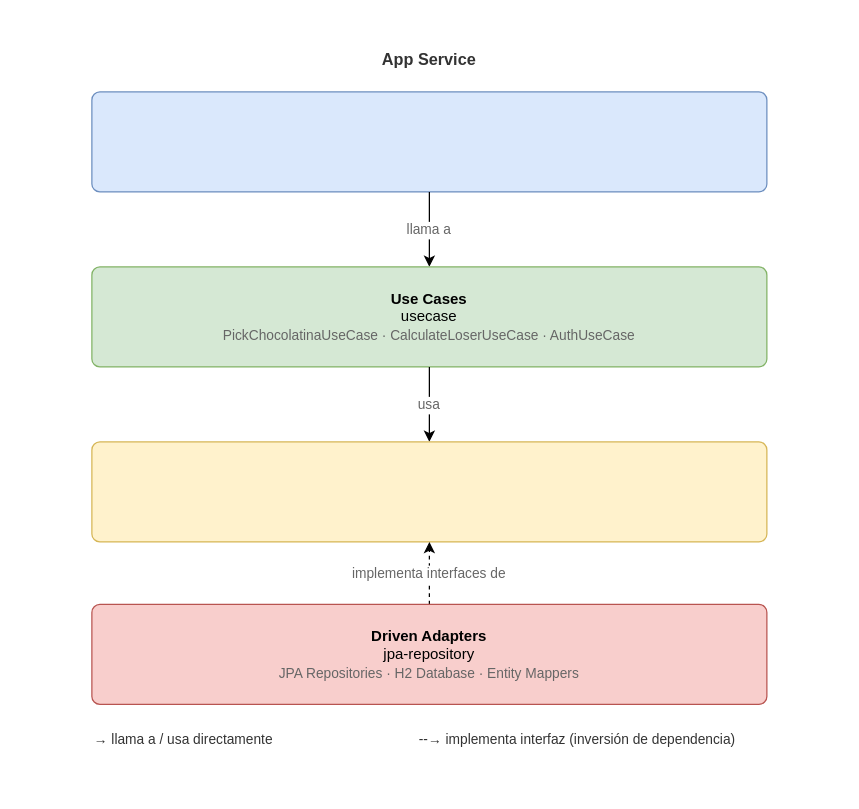
Image size: 859x809. Some labels were removed from this diagram. Each missing label, with the box of its shape:
Entry Points api-rest Controllers · Spring Security · JWT Filters: (91, 91, 767, 192)
Model model User · GameRecord · FinishedGame · ChocolatinaConfig: (91, 441, 767, 542)
